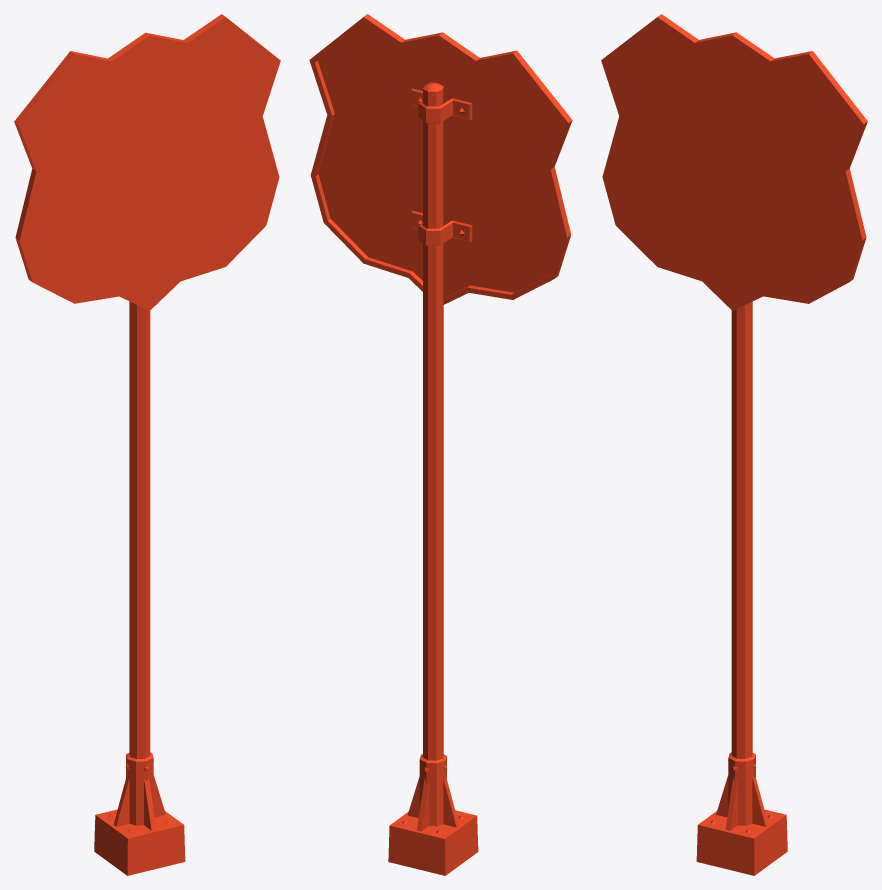
The model's file is SM_Sign_Route_66_B_City.fbx.
3 views of the same model, side by side, from view 1: azimuth 30°, elevation 25°; view 2: azimuth 150°, elevation 25°; view 3: azimuth 330°, elevation 25° (orthographic).
Parts seen in each view (by area): view 1: SM_Sign_Route_66_B_City; view 2: SM_Sign_Route_66_B_City; view 3: SM_Sign_Route_66_B_City.
Part boxes in pixels (<box>): SM_Sign_Route_66_B_City: <box>14,14,280,875</box>; SM_Sign_Route_66_B_City: <box>309,14,572,875</box>; SM_Sign_Route_66_B_City: <box>601,14,867,875</box>.
Size of the model in its own units: 0.8358 by 2.52 by 0.1839.
